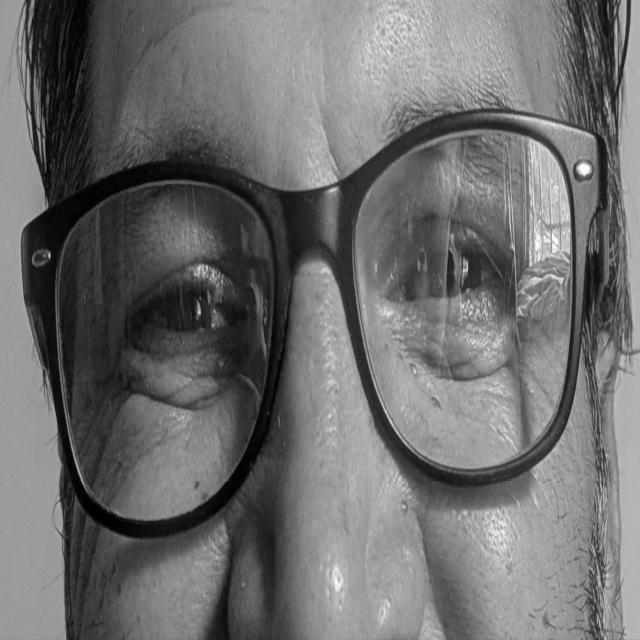real: (84, 116, 562, 472)
